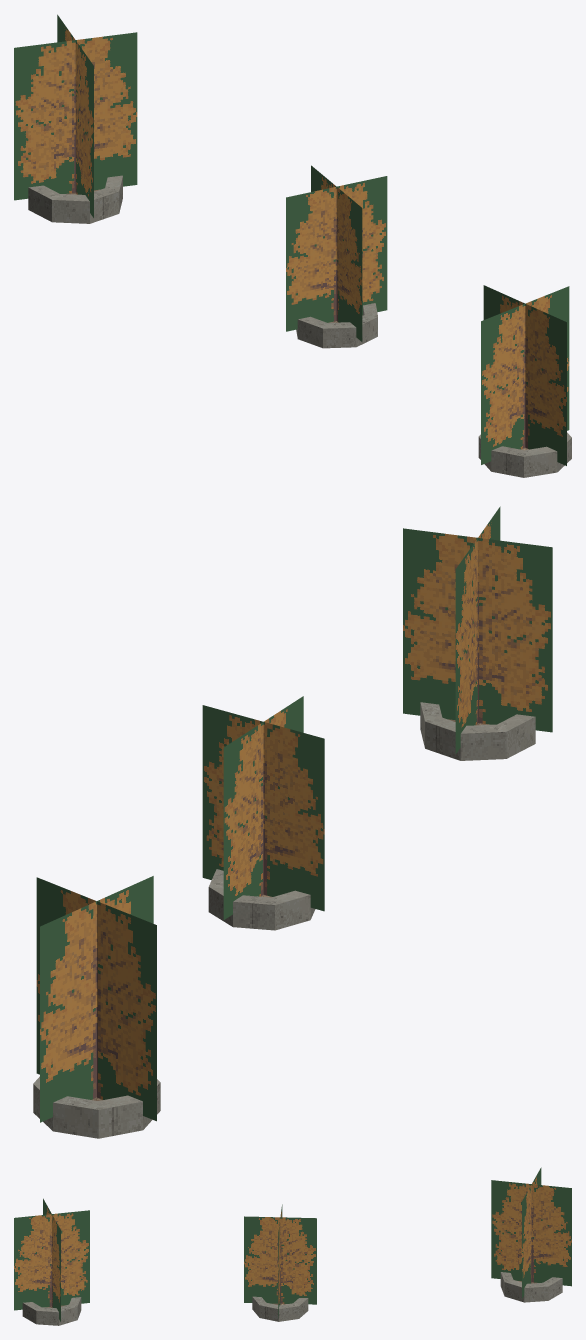
Rendered from procgen-procpain-tree-park-large-xm1z0.obj.
3 views of the same model, one above another, from view 1: azimuth 30°, elevation 25°; view 2: azimuth 150°, elevation 25°; view 3: azimuth 270°, elevation 25° (orthographic). The views are drawn at different scales.
Bounding box in the file's own units: 9.09 × 7.82 × 37.53.
